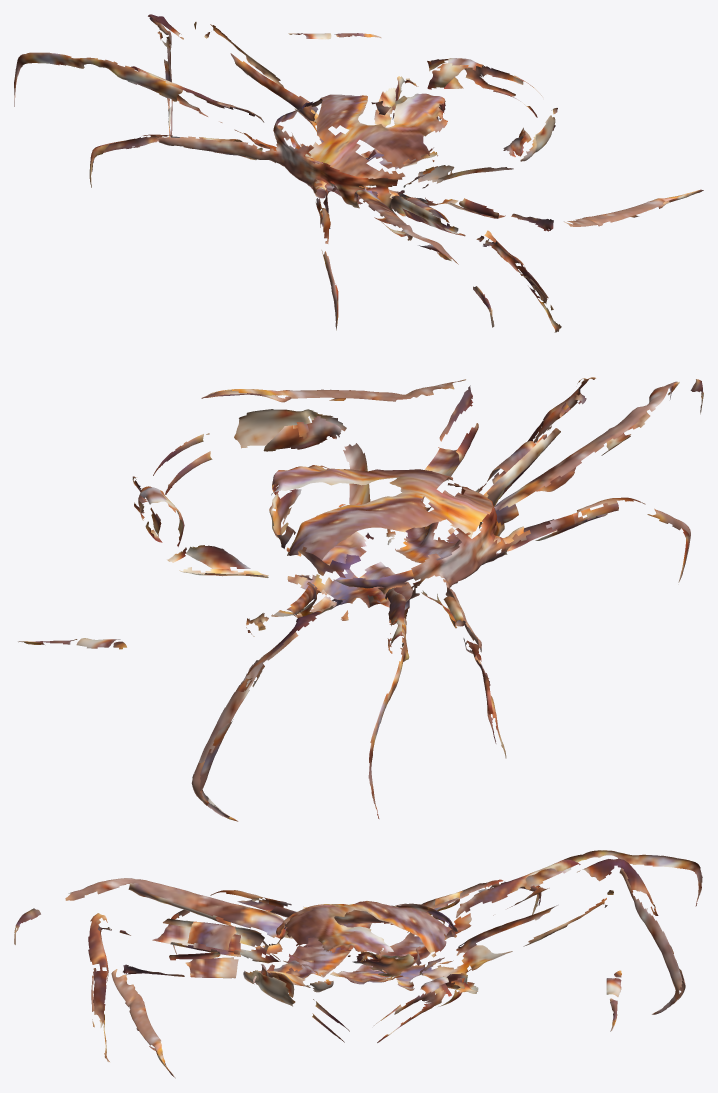
File: crab.fbx
3 renders of one model, top to bottom at view 1: azimuth 30°, elevation 25°; view 2: azimuth 150°, elevation 25°; view 3: azimuth 270°, elevation 25°, orthographic. The views are drawn at different scales.
Visible parts, largest first — view 1: Crab; view 2: Crab; view 3: Crab.
Boxes of the visible parts, x1,y1,x2,y2 form: Crab: (14,14,703,332); Crab: (18,377,703,821); Crab: (14,850,702,1078).
Size of the model in its own units: 949 by 368 by 1426.
